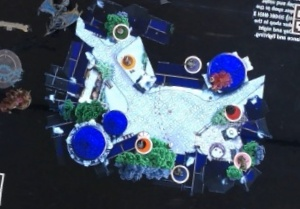blue: (169, 160, 192, 184)
green: (111, 20, 131, 43)
orange: (129, 133, 157, 157)
pink: (230, 148, 255, 175)
red: (223, 102, 245, 124)
violet: (182, 52, 206, 75)
yellow: (116, 51, 139, 72)
